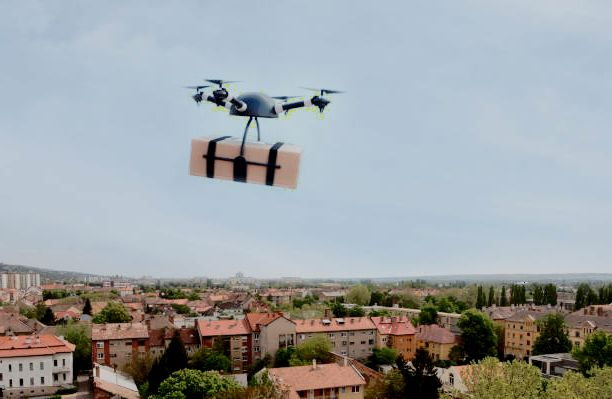Drone: (183, 73, 346, 121)
